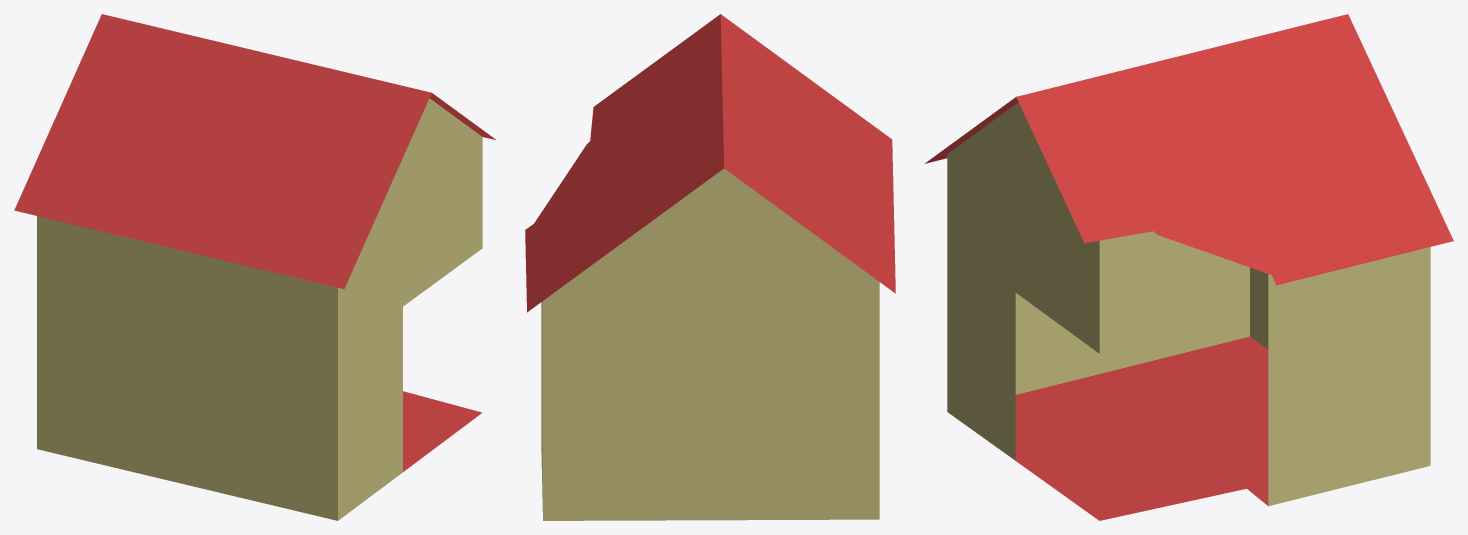
3 renders of one model, left to right at view 1: azimuth 30°, elevation 25°; view 2: azimuth 150°, elevation 25°; view 3: azimuth 270°, elevation 25°, orthographic. The views are drawn at different scales.
Bounding box in the file's own units: 13.73 × 15.55 × 12.26.
